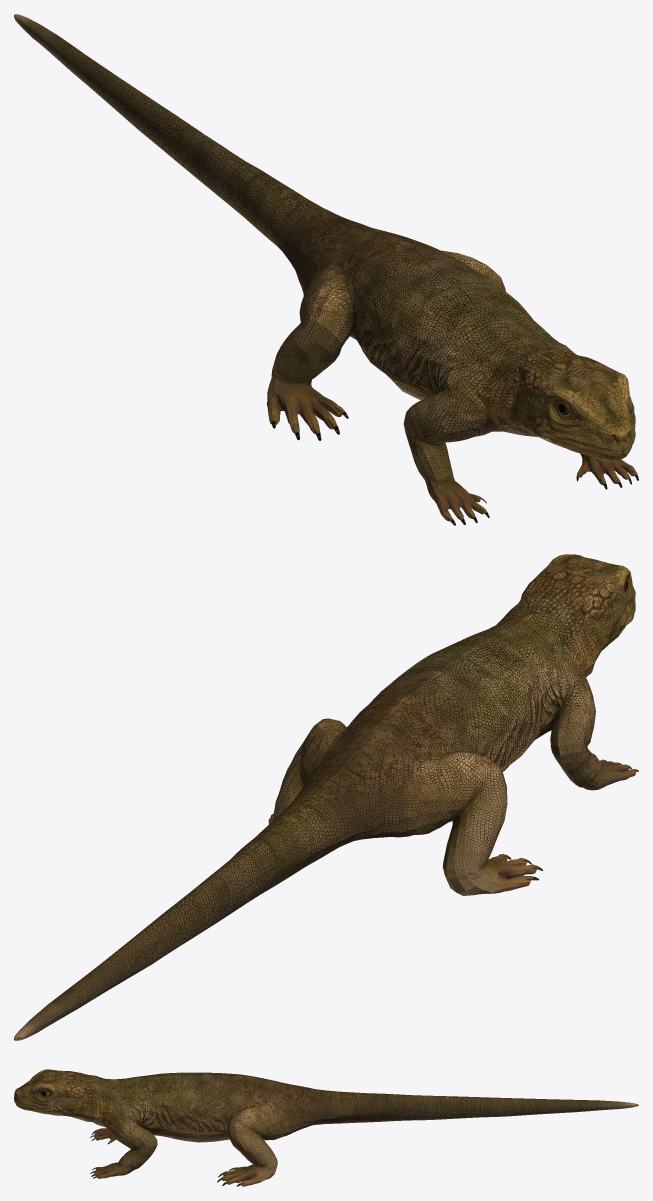
File: lizard-recovered115.glb
3 renders of one model, top to bottom at view 1: azimuth 30°, elevation 25°; view 2: azimuth 150°, elevation 25°; view 3: azimuth 270°, elevation 25°, orthographic. The views are drawn at different scales.
Visible parts, largest first — view 1: shentiShapeOrig; view 2: shentiShapeOrig; view 3: shentiShapeOrig.
Part boxes in pixels (bbox=[...]): shentiShapeOrig: bbox=[14, 14, 635, 521]; shentiShapeOrig: bbox=[14, 554, 635, 1040]; shentiShapeOrig: bbox=[14, 1069, 638, 1186].
Size of the model in its own units: 1.5 by 0.8572 by 5.94.
Materials: 2 (2 with a texture image).
